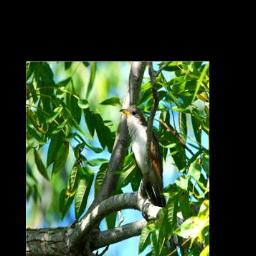Cuckoo: (120, 104, 167, 206)
